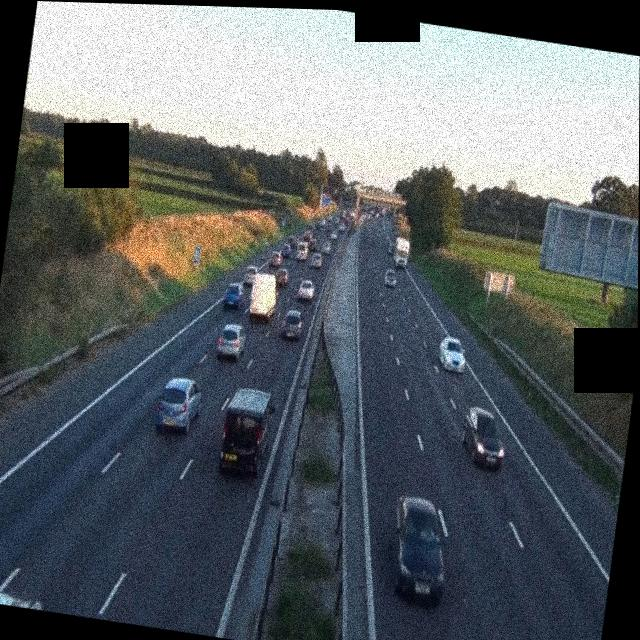car: (383, 492, 454, 605), (217, 385, 276, 478), (457, 405, 508, 470), (154, 374, 204, 435), (435, 335, 468, 375), (215, 320, 246, 362), (0, 585, 45, 610), (221, 279, 246, 310), (280, 310, 303, 341), (296, 276, 315, 303), (242, 264, 261, 288), (271, 260, 288, 280), (383, 267, 397, 287), (294, 243, 308, 262), (310, 251, 324, 268), (271, 248, 285, 265), (321, 239, 332, 254), (330, 228, 340, 241)
truck: (248, 269, 281, 323), (390, 232, 410, 270)
